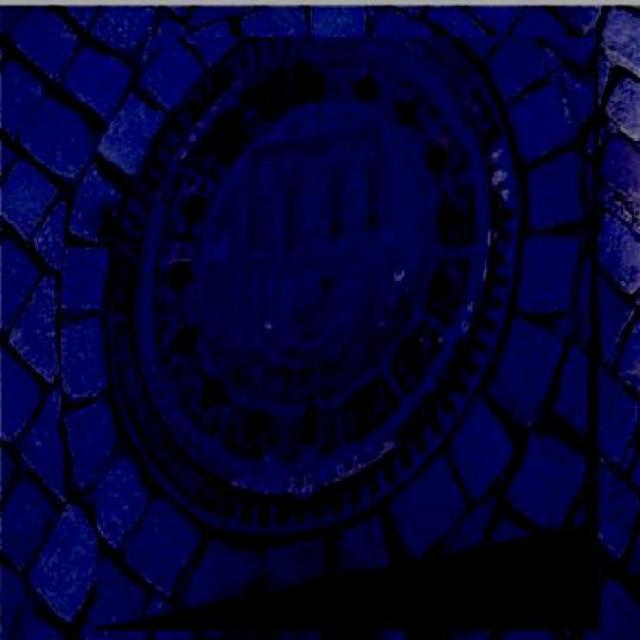Manhole: (96, 37, 598, 631)
